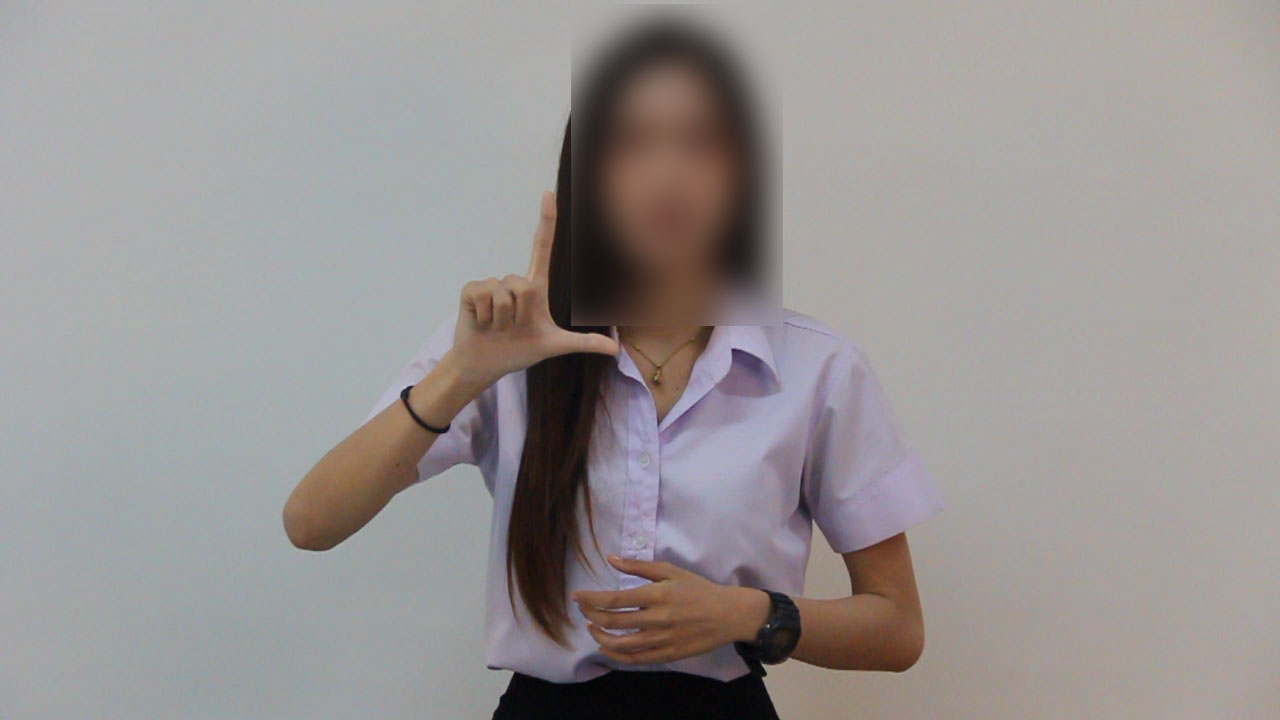lor: (448, 177, 627, 407)
